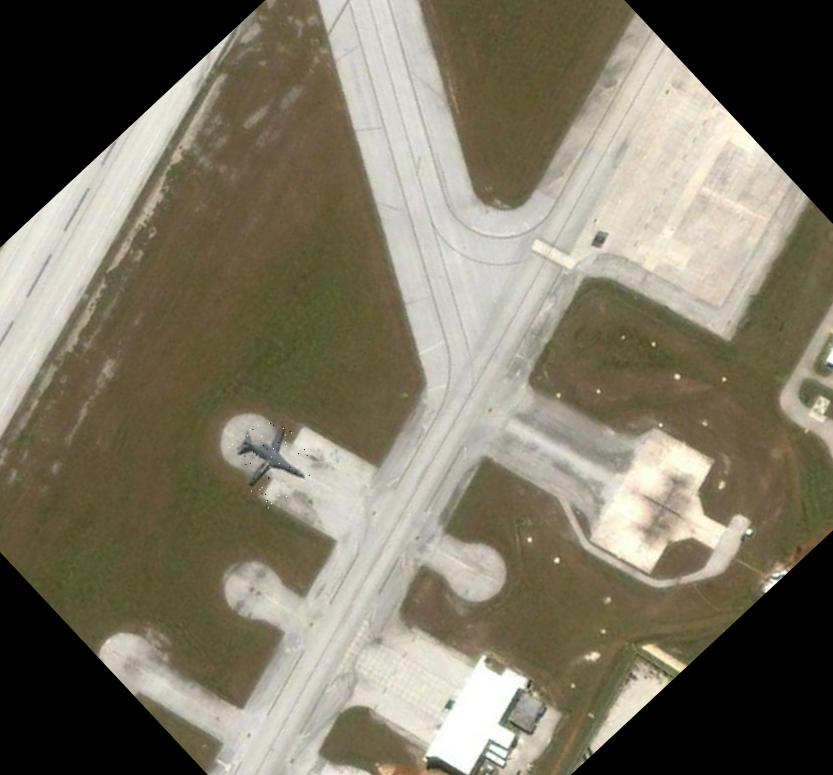A10: (217, 406, 322, 512)
